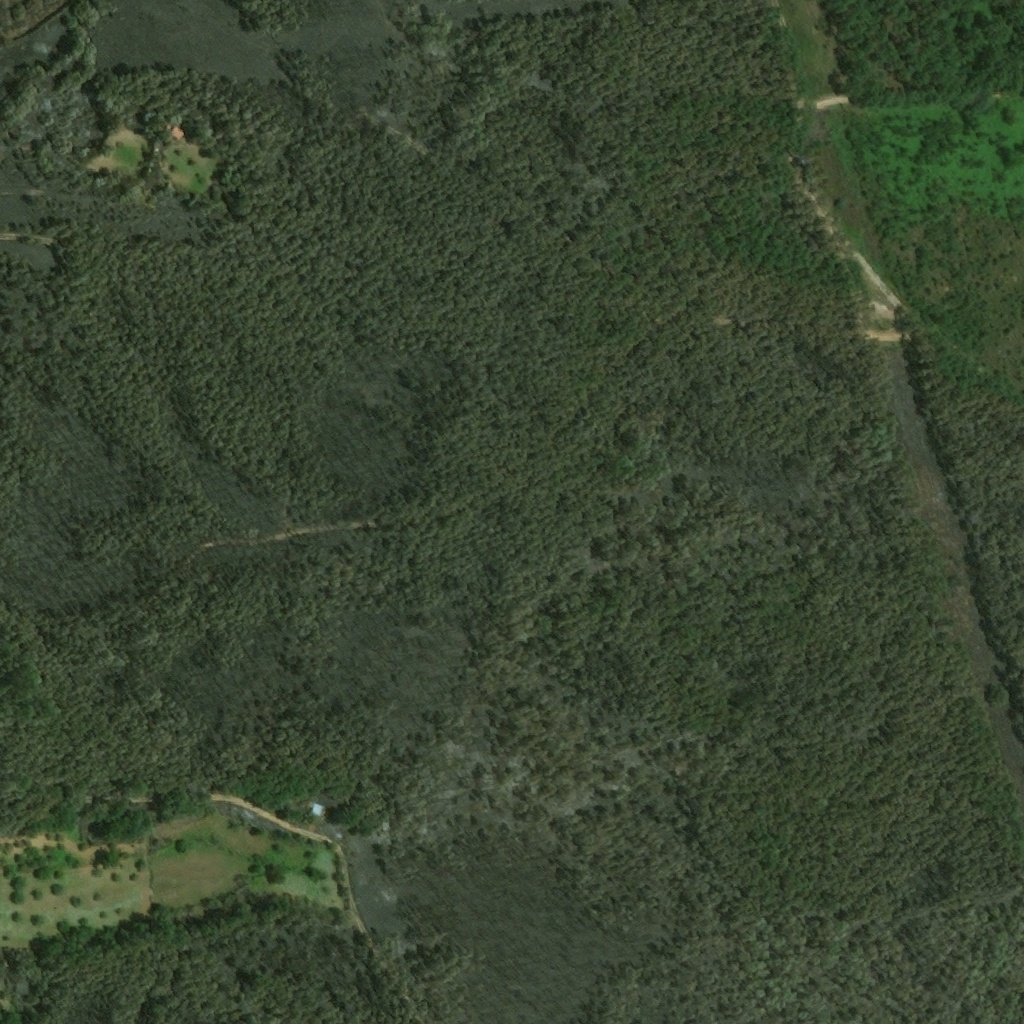0 no-damage: (166, 126, 182, 143), (307, 801, 322, 817)
3 destroyed: (147, 159, 163, 173), (152, 140, 164, 157)
